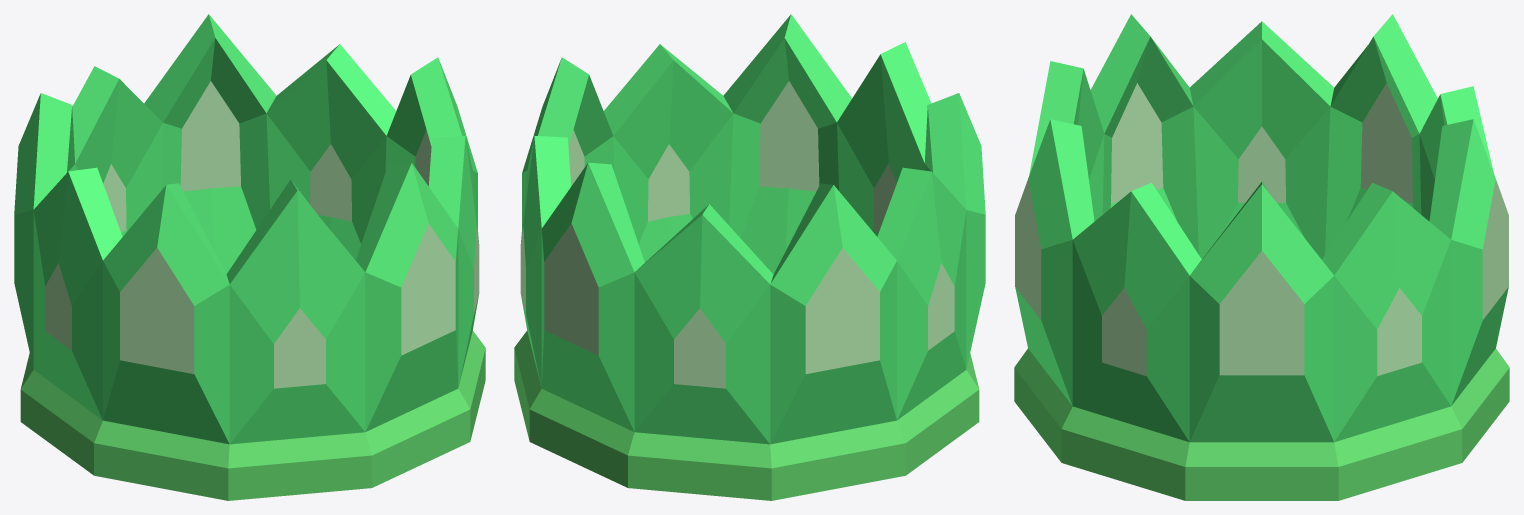
Rendered from Crown 2.fbx.
3 views of the same model, side by side, from view 1: azimuth 30°, elevation 25°; view 2: azimuth 150°, elevation 25°; view 3: azimuth 270°, elevation 25° (orthographic). The views are drawn at different scales.
Parts seen in each view (by area): view 1: Crown 2; view 2: Crown 2; view 3: Crown 2.
Boxes of the visible parts, x1=… form: Crown 2: x1=14, y1=14, x2=485, y2=500; Crown 2: x1=514, y1=14, x2=985, y2=500; Crown 2: x1=1014, y1=14, x2=1509, y2=500.
Size of the model in its own units: 206 by 147 by 212.
